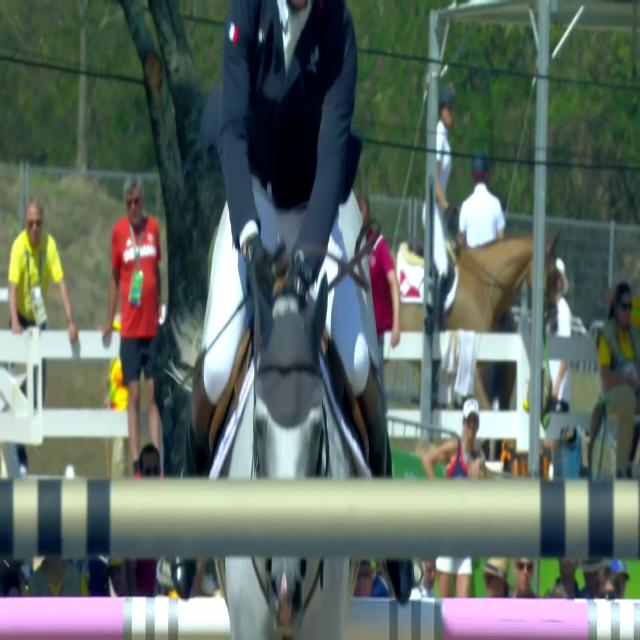Horse Rider: (160, 0, 422, 617)
Horse Running: (198, 267, 390, 640)
